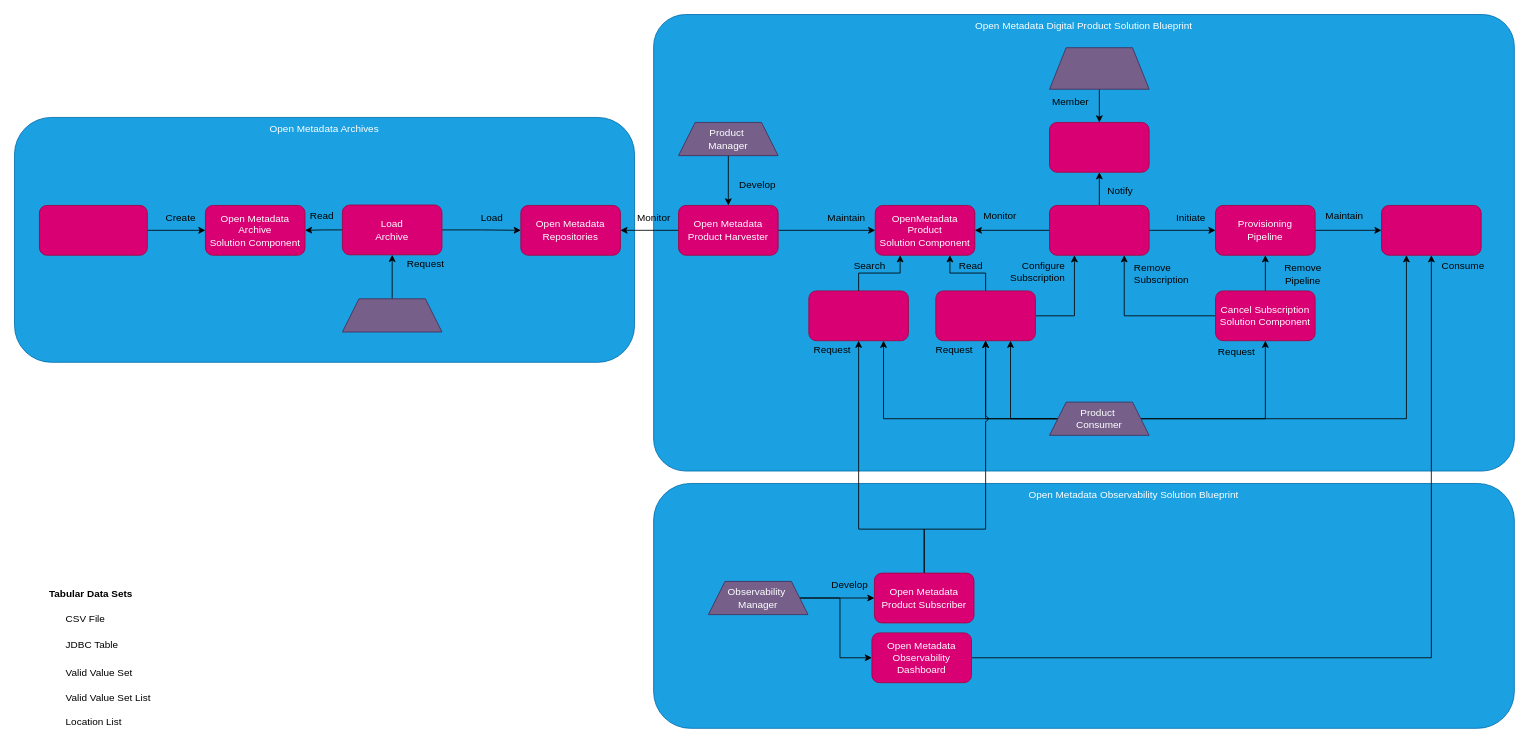
Image size: 1529x749. Some labels were removed from this diagram. The centre of each missing label's shape, as x and y in pixels:
"Egeria Build Solution Component" belongs at (x=93, y=230).
"Egeria User" belongs at (x=392, y=315).
"Find Product Solution Component" belongs at (x=858, y=315).
"New Subscription Solution Component" belongs at (x=985, y=315).
"Open Metadata Product Community Solution Component" belongs at (x=1099, y=147).
"Open Metadata Watchdog Solution Component" belongs at (x=1099, y=230).
"Product Community Member" belongs at (x=1099, y=68).
"Product Delivery Location" belongs at (x=1431, y=230).
